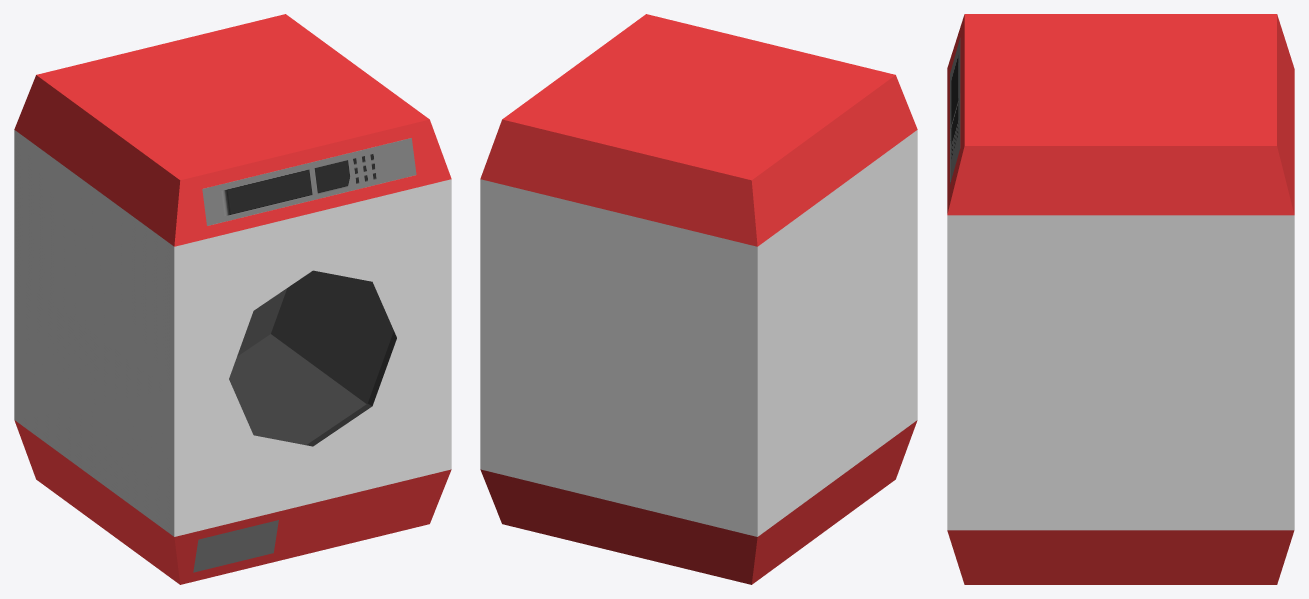
The model's file is Itr_Washingmachine_Body_02.FBX.
3 views of the same model, side by side, from view 1: azimuth 30°, elevation 25°; view 2: azimuth 150°, elevation 25°; view 3: azimuth 270°, elevation 25° (orthographic). The views are drawn at different scales.
Visible parts, largest first — view 1: Itr_Washingmachine_Body_02; view 2: Itr_Washingmachine_Body_02; view 3: Itr_Washingmachine_Body_02.
Boxes of the visible parts, x1,y1,x2,y2 form: Itr_Washingmachine_Body_02: (14, 14, 451, 584); Itr_Washingmachine_Body_02: (480, 14, 917, 584); Itr_Washingmachine_Body_02: (947, 14, 1294, 584).
Bounding box in the file's own units: 39.37 × 54.89 × 39.45.
